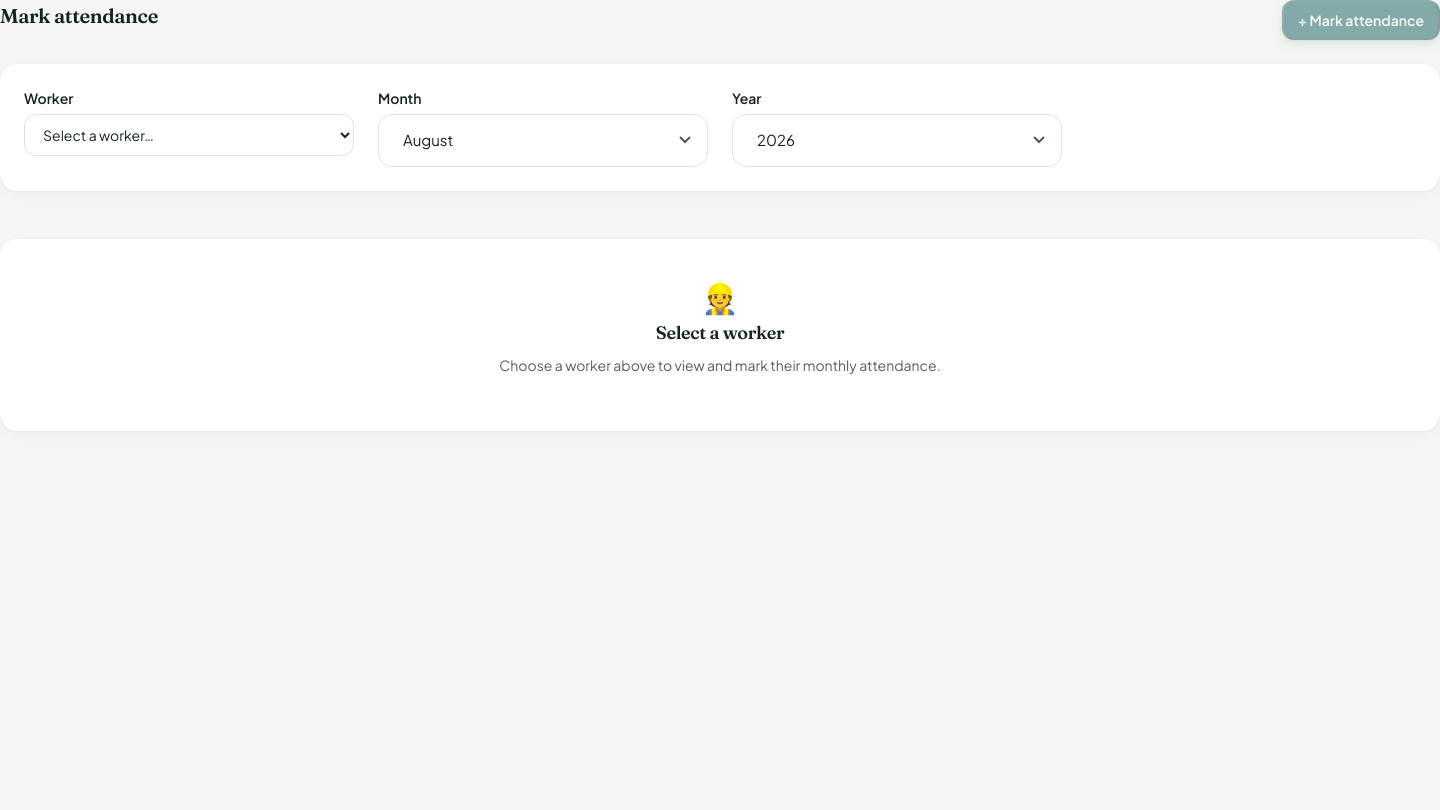
Scenario: MarkAttendance › requires a job before marking (client-side validation)
The width and height of the screenshot is (1440, 810).
Select "Ana (ana@example.com)" in the dropdown labelled "Worker" at (189, 135), box [24,114,354,156]
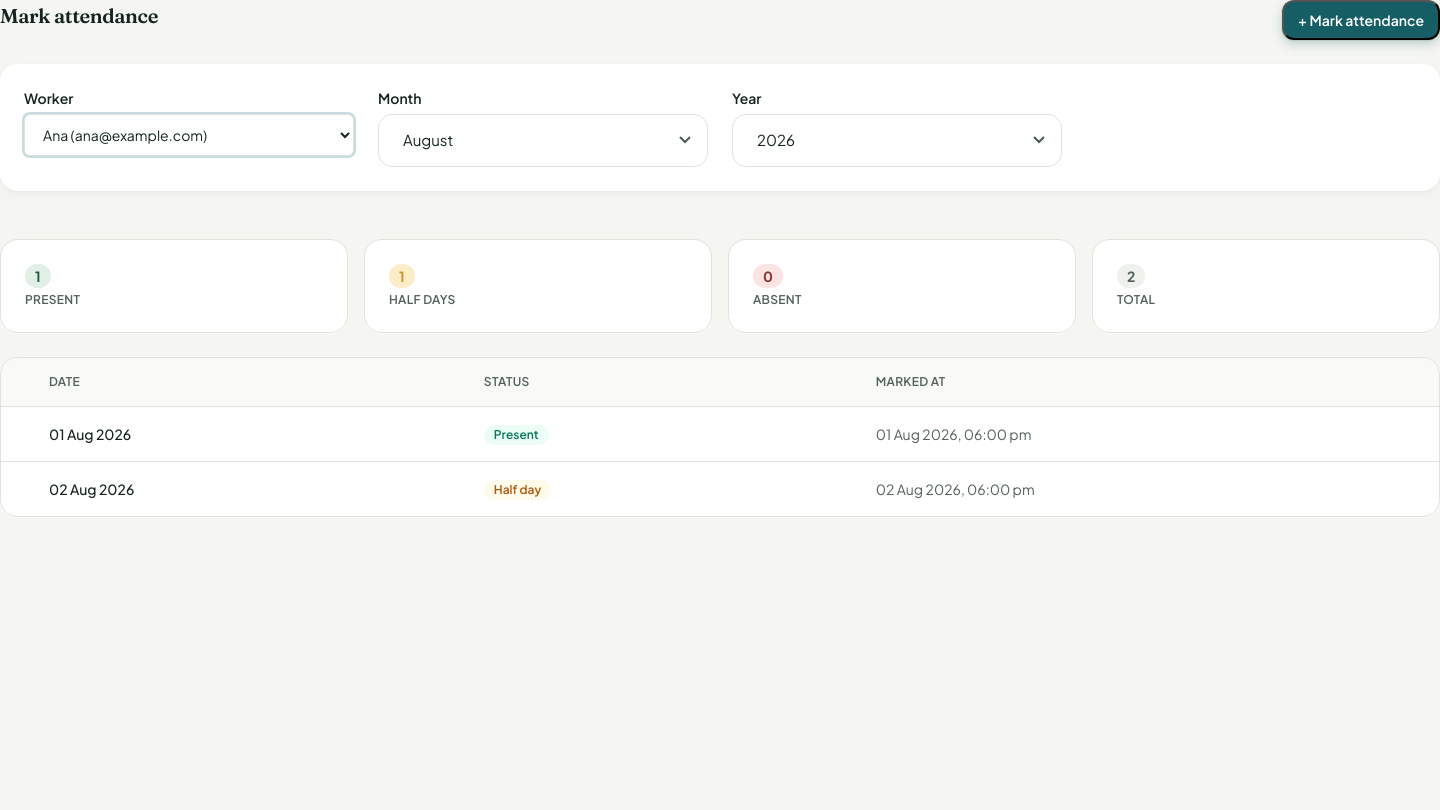
Click the button "+ Mark attendance" at (1361, 20), box [1282,0,1439,40]
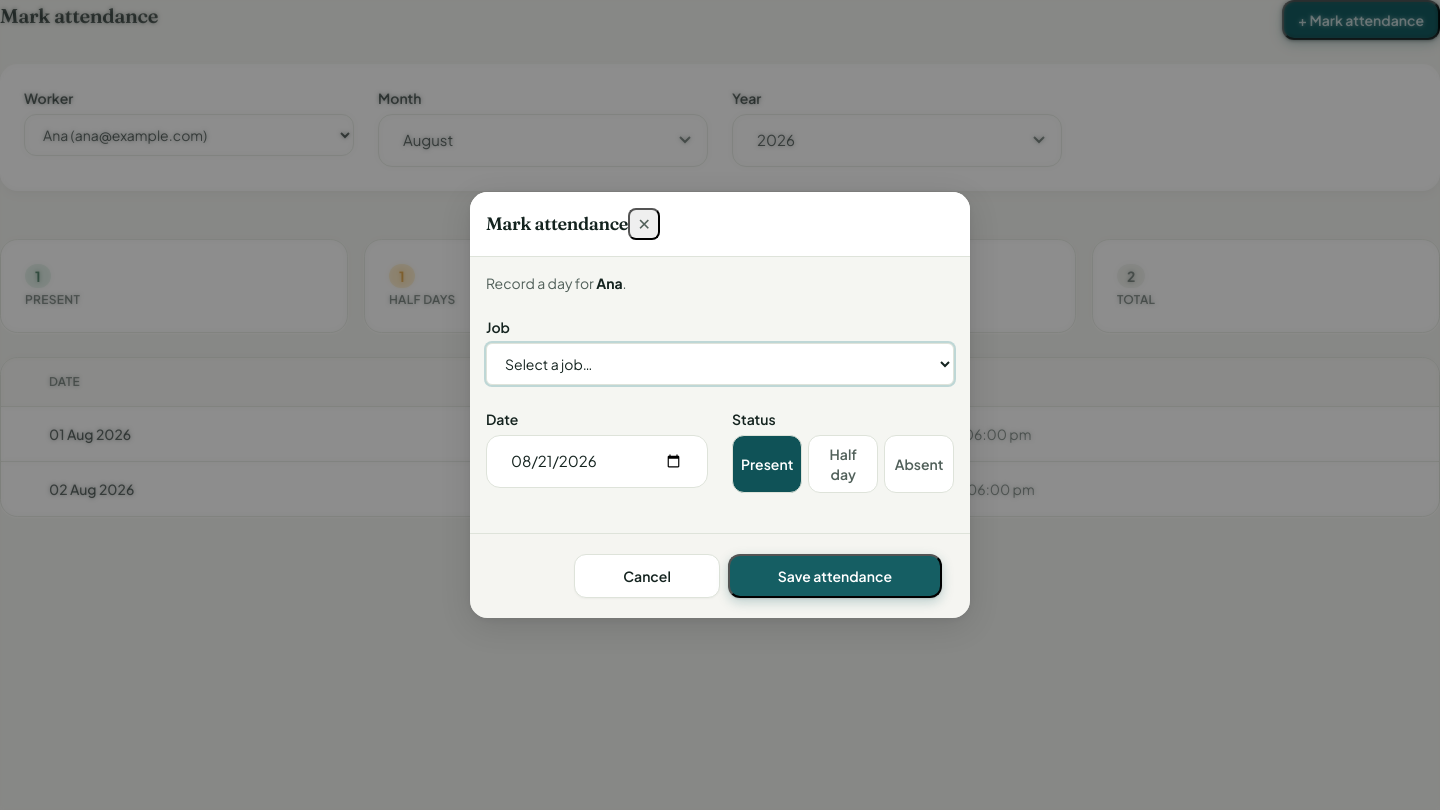
Click the button "Save attendance" at (835, 576), box [728,554,942,598]
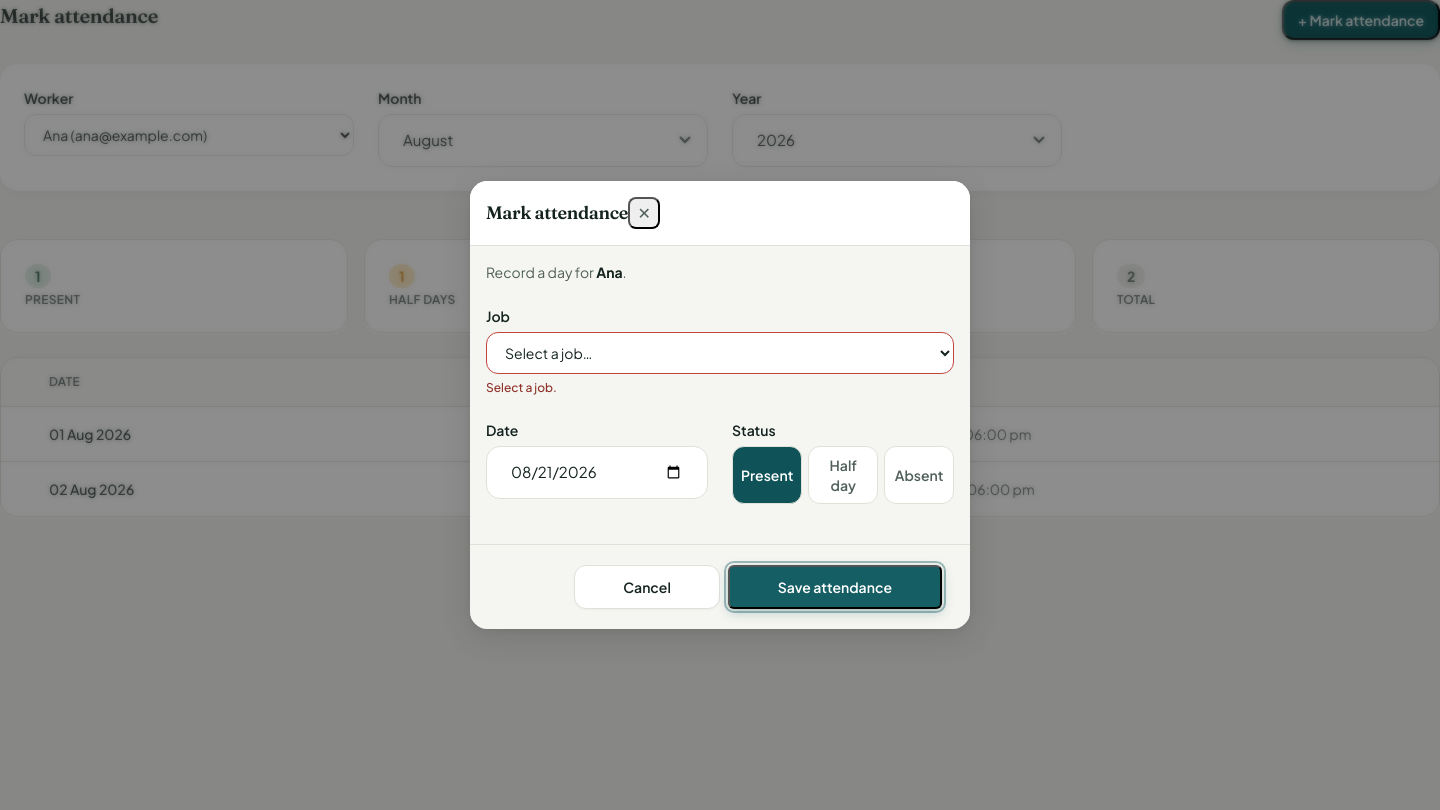
expect the text "Select a job." is shown: met, box [486,380,557,395]
